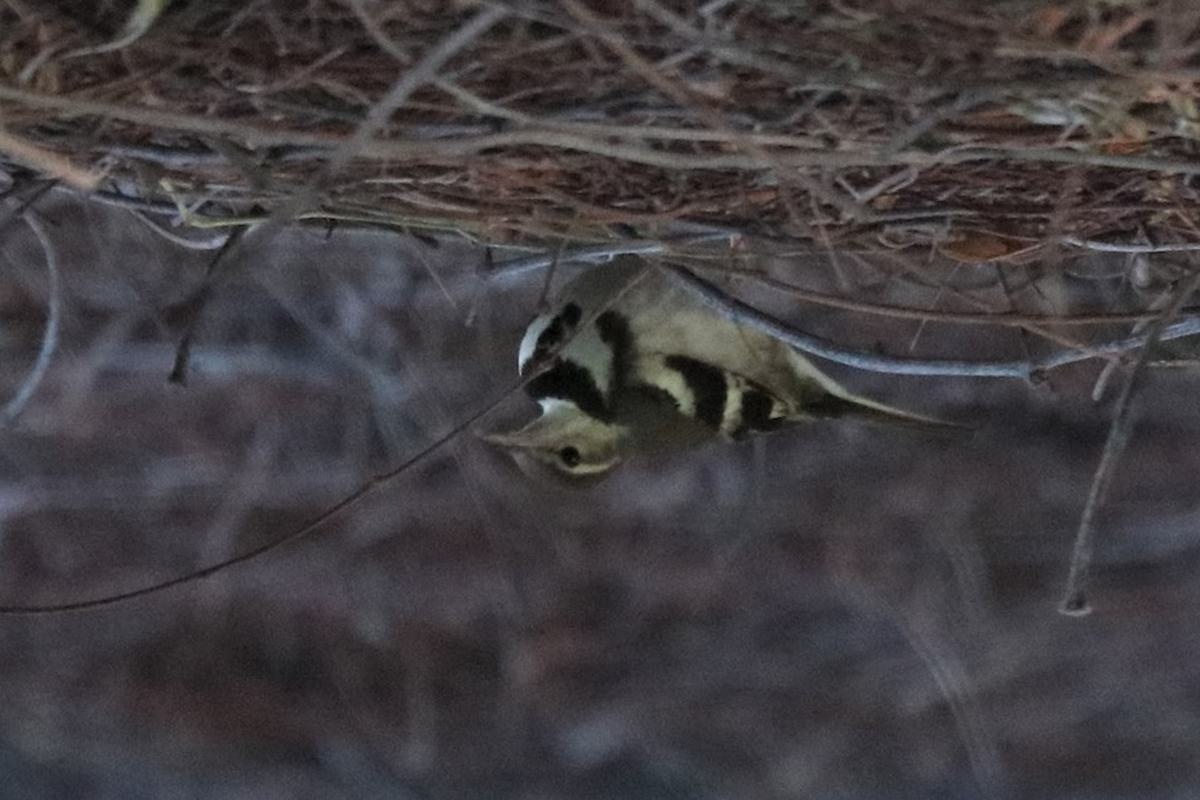wagtail: (487, 250, 958, 498)
